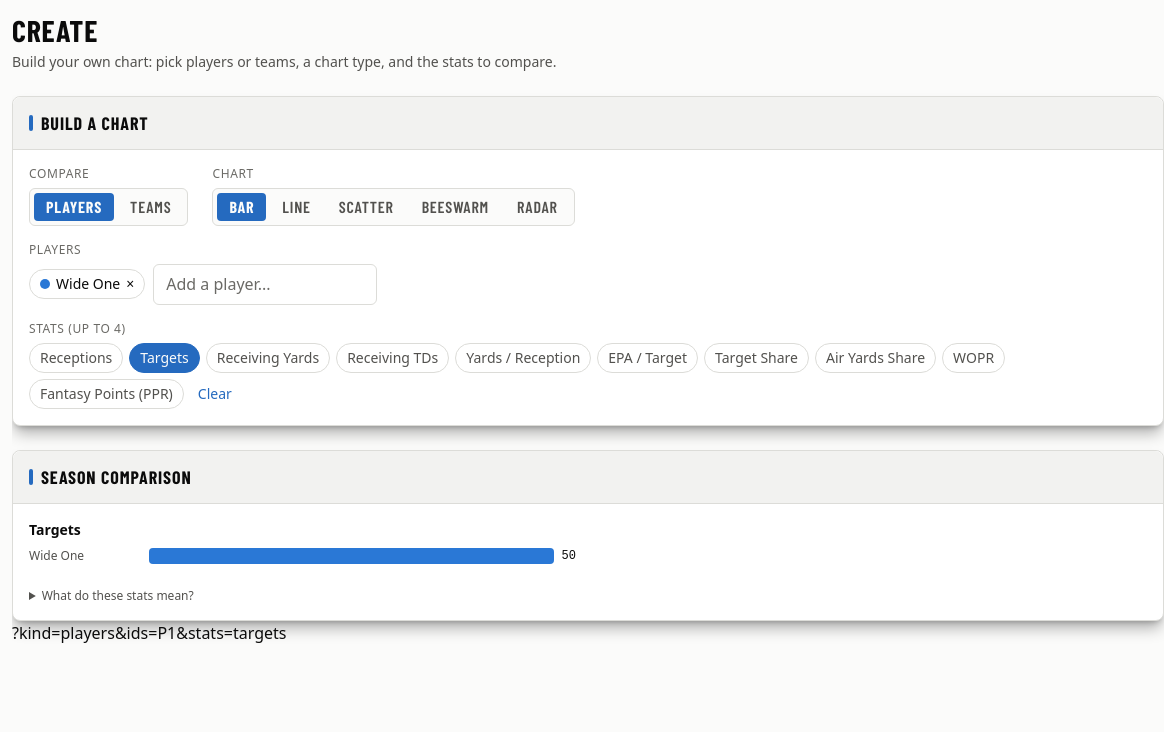
Scenario: CreatePage › starts over when switching between players and teams
Expected: the element "Targets" is shown, x1=29 y1=520 x2=576 y2=564
Click the button "Teams". click: [151, 207]
box: x1=118 y1=193 x2=184 y2=221
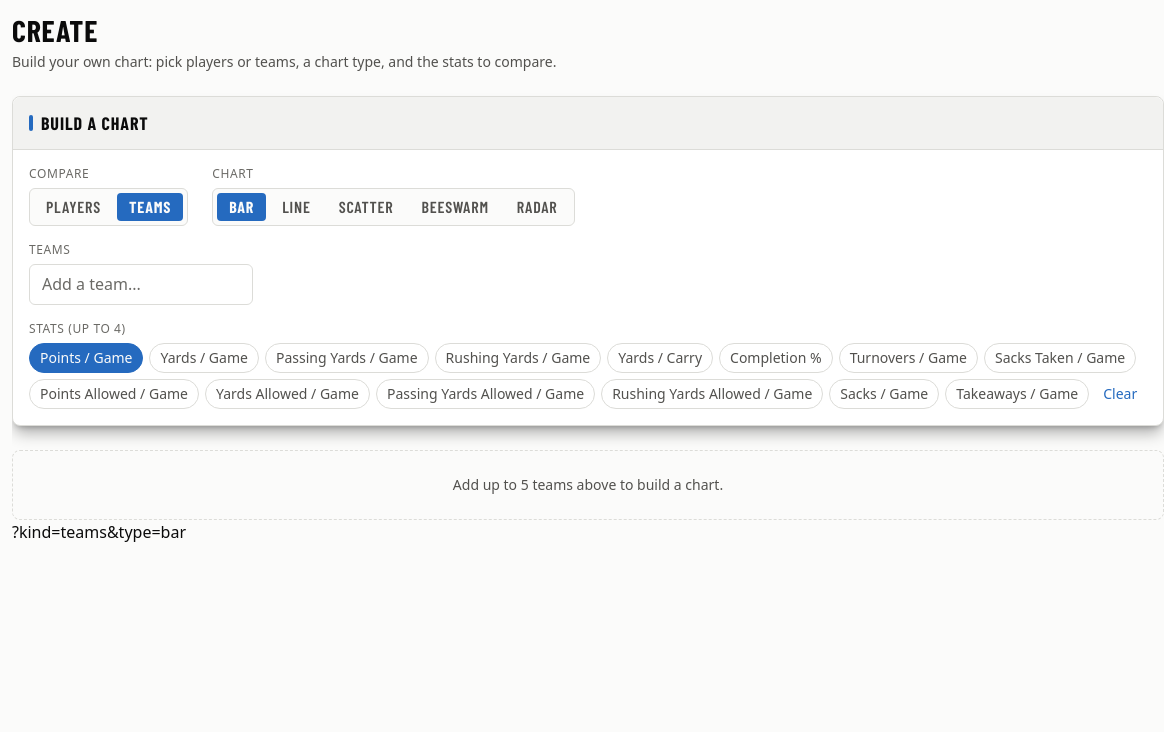
Expected: the text "Add up to 5 teams above to build a chart." is shown, x1=12 y1=450 x2=1163 y2=520
